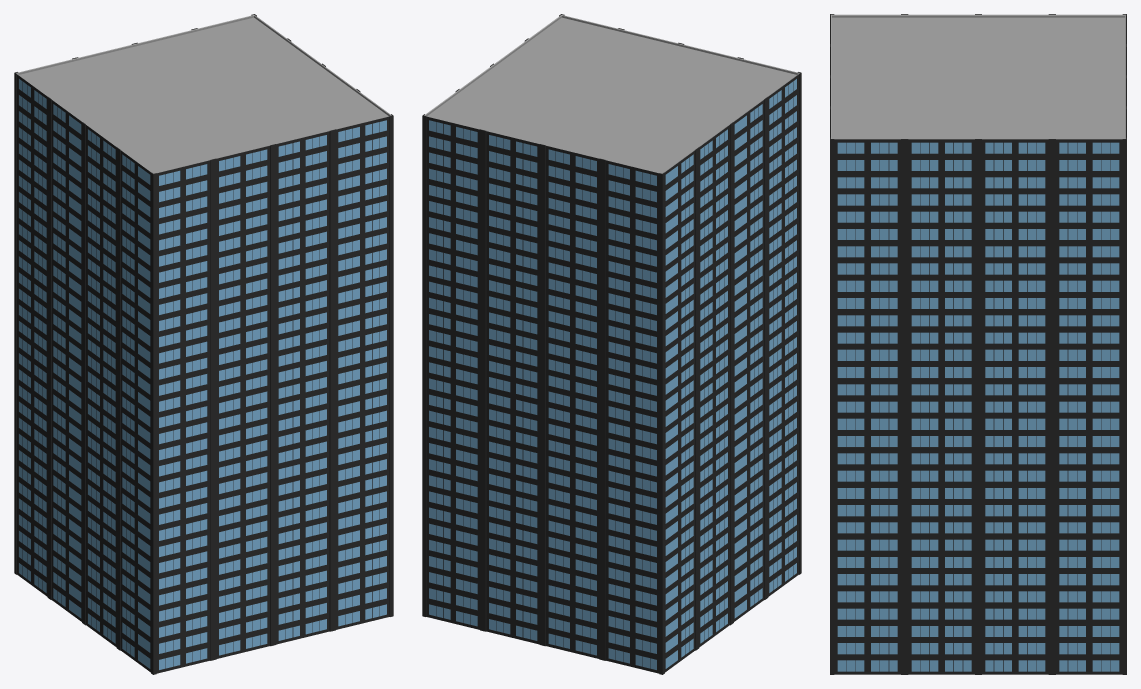
Rendered from Building.fbx.
The picture shows the model from 3 angles, left to right: view 1: azimuth 30°, elevation 25°; view 2: azimuth 150°, elevation 25°; view 3: azimuth 270°, elevation 25°; orthographic projection. The views are drawn at different scales.
Visible parts, largest first — view 1: Cube; view 2: Cube; view 3: Cube.
Part boxes in pixels (<box>): Cube: <box>14,14,393,674</box>; Cube: <box>422,14,801,674</box>; Cube: <box>830,14,1126,674</box>.
Bounding box in the file's own units: 201 × 400 × 201.
